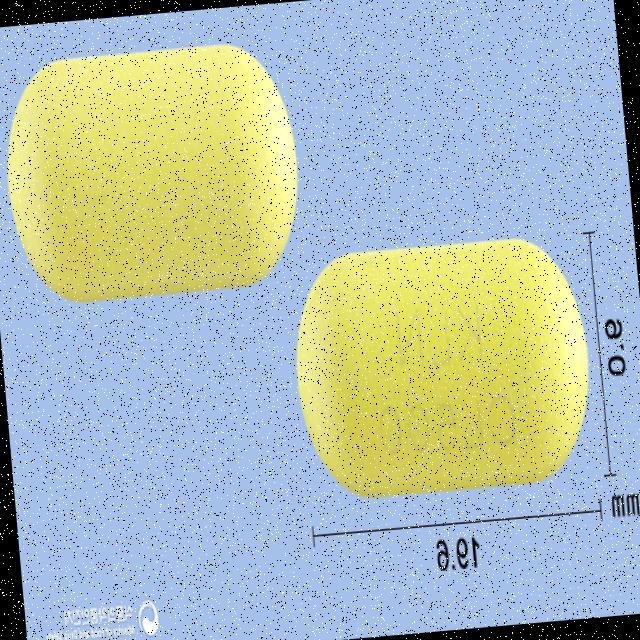New Clato Tab-500mg: (286, 231, 598, 503), (0, 34, 307, 304)
